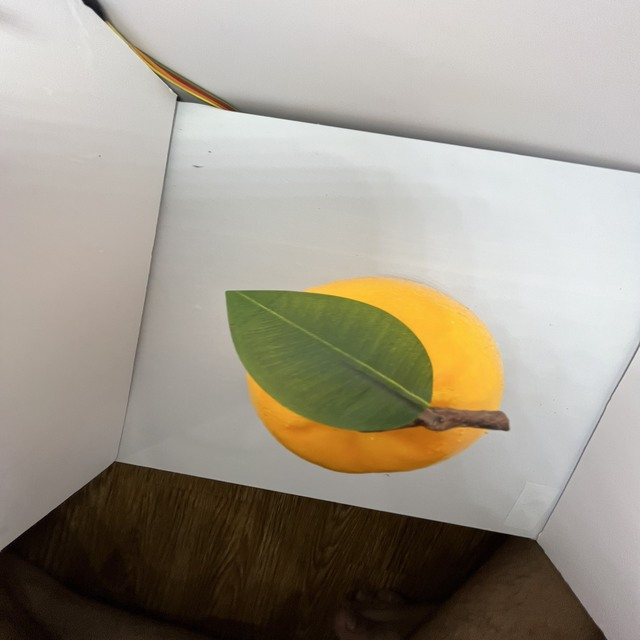Cam vang: (244, 275, 508, 479)
